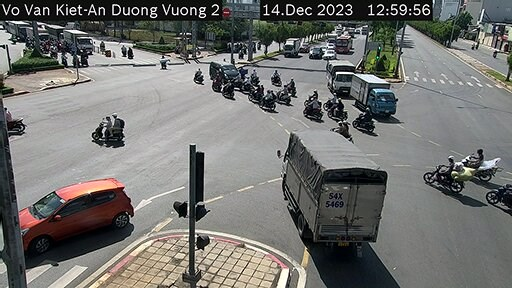car: (21, 179, 140, 268), (207, 51, 235, 92)
motorbike: (429, 156, 470, 199), (458, 143, 500, 184), (85, 109, 125, 148), (189, 65, 200, 89)
truck: (272, 121, 387, 249), (352, 67, 392, 121), (322, 54, 352, 97), (60, 31, 100, 53), (278, 38, 303, 61)
